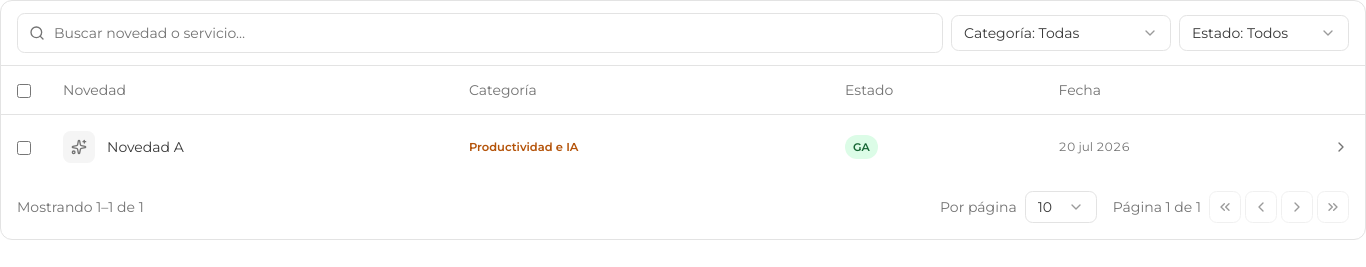
Test: 'Limpiar' vacía la selección y oculta la barra de lote
Click the checkbox named "Seleccionar Novedad A".
click(24, 148)  # box [17, 141, 31, 155]
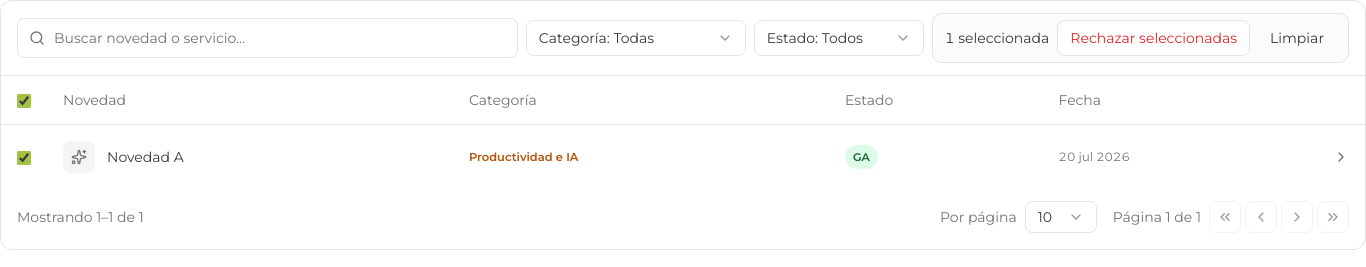
Result: the text "1 seleccionada" is shown at [945, 28, 1049, 48]
Click the button "Limpiar".
click(1297, 38)  # box [1258, 20, 1336, 56]
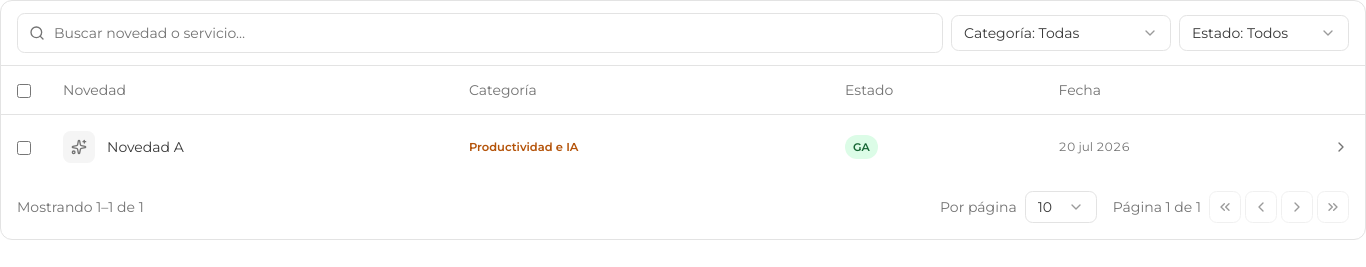
Result: the text "1 seleccionada" is gone
